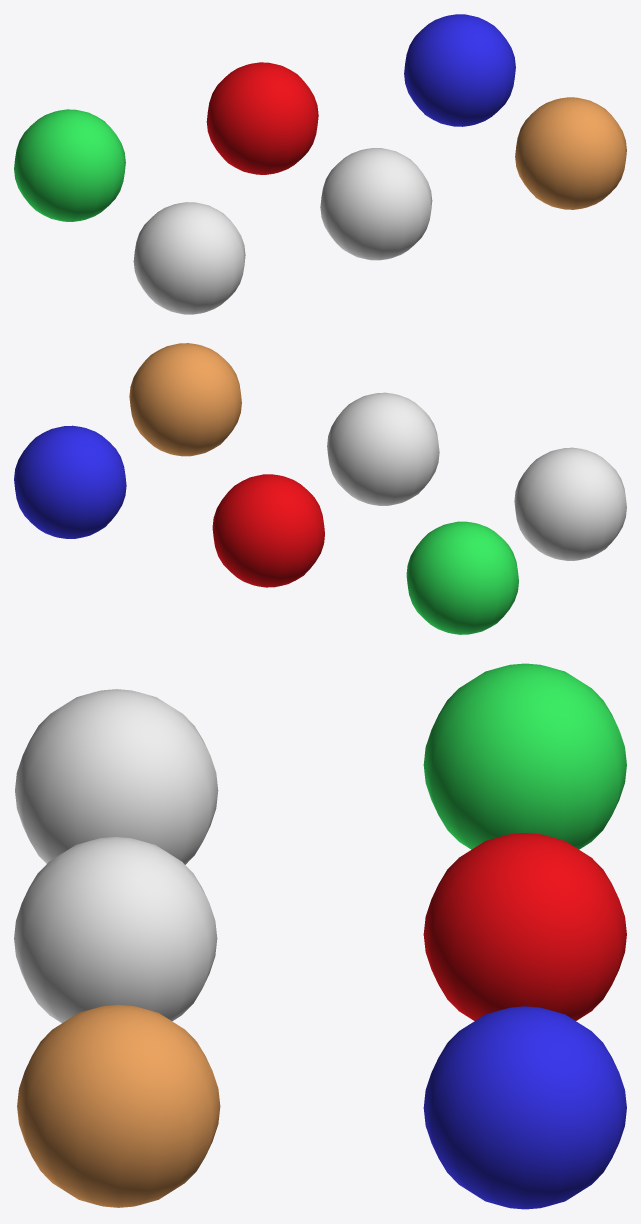
3 renders of one model, top to bottom at view 1: azimuth 30°, elevation 25°; view 2: azimuth 150°, elevation 25°; view 3: azimuth 270°, elevation 25°, orthographic. The views are drawn at different scales.
Parts seen in each view (by area): view 1: Sphere.002, Sphere.003, Sphere.005, Sphere, Sphere.001, Sphere.004; view 2: Sphere.005, Sphere, Sphere.001, Sphere.003, Sphere.004, Sphere.002; view 3: Sphere.004, Sphere, Sphere.003, Sphere.005, Sphere.001, Sphere.002.
Part boxes in pixels (x1,y1,x2,y2): Sphere.002: [133, 202, 245, 314]; Sphere.003: [206, 62, 318, 174]; Sphere.005: [14, 109, 125, 221]; Sphere: [515, 97, 626, 209]; Sphere.001: [320, 148, 432, 260]; Sphere.004: [404, 14, 515, 126]; Sphere.005: [406, 521, 518, 634]; Sphere: [129, 343, 241, 456]; Sphere.001: [327, 392, 439, 505]; Sphere.003: [212, 474, 324, 587]; Sphere.004: [14, 425, 126, 538]; Sphere.002: [514, 447, 626, 560]; Sphere.004: [423, 1006, 626, 1209]; Sphere: [17, 1004, 220, 1207]; Sphere.003: [423, 833, 626, 1020]; Sphere.005: [423, 663, 626, 849]; Sphere.001: [14, 837, 217, 1022]; Sphere.002: [15, 689, 218, 864].
Bounding box in the file's own units: 4.99 × 1.11 × 3.02.
